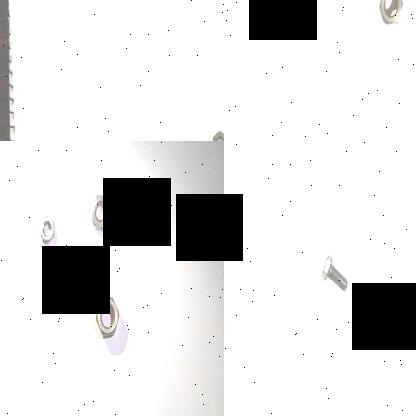Bolts: (318, 249, 350, 296)
NUTS: (95, 294, 121, 340), (86, 192, 112, 235), (376, 0, 404, 31), (36, 212, 56, 248), (209, 126, 224, 141)
